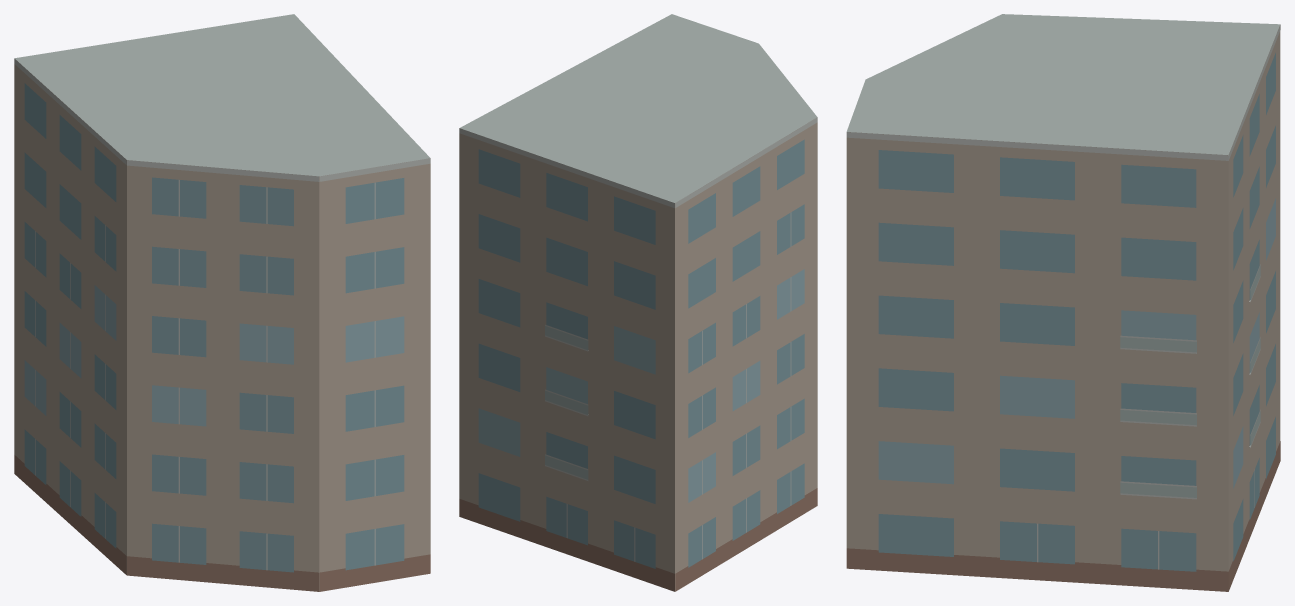
The model's file is survey-upis-32976721.glb.
The picture shows the model from 3 angles, left to right: view 1: azimuth 30°, elevation 25°; view 2: azimuth 150°, elevation 25°; view 3: azimuth 270°, elevation 25°; orthographic projection. The views are drawn at different scales.
Visible parts, largest first — view 1: survey-upis-32976721.tmp; view 2: survey-upis-32976721.tmp; view 3: survey-upis-32976721.tmp.
Boxes of the visible parts, box(x1,y1,x2,y2) form: survey-upis-32976721.tmp: box(14, 14, 430, 591); survey-upis-32976721.tmp: box(459, 14, 817, 591); survey-upis-32976721.tmp: box(846, 14, 1280, 591).
Bounding box in the file's own units: 12.69 × 18.3 × 16.49.
